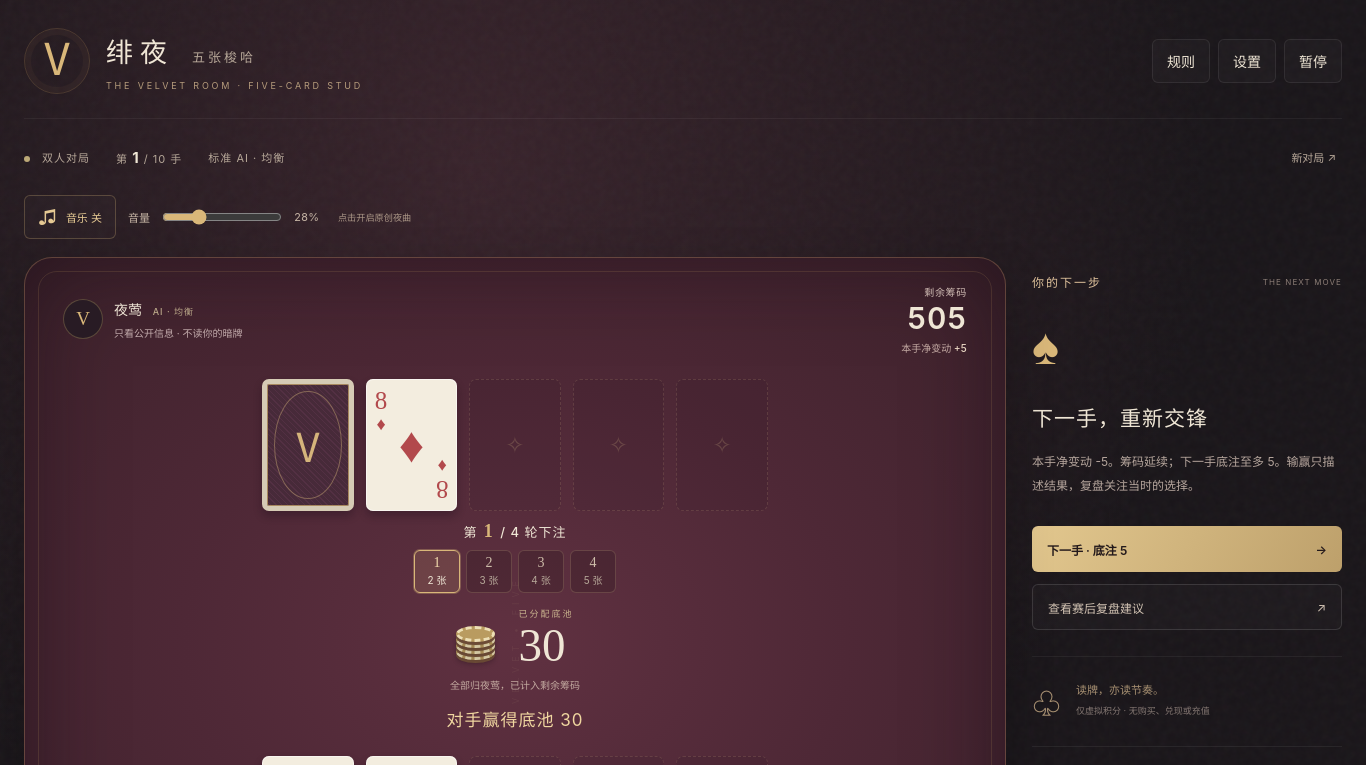
clear stakes and retrospective advice › shows player advice only after settlement and keeps folded AI hole-card analysis hidden
The image size is (1366, 765).
Click the button "查看赛后复盘建议 ↗" at coordinates (1108, 608), box [1032,584,1342,630]
(page scrolled)
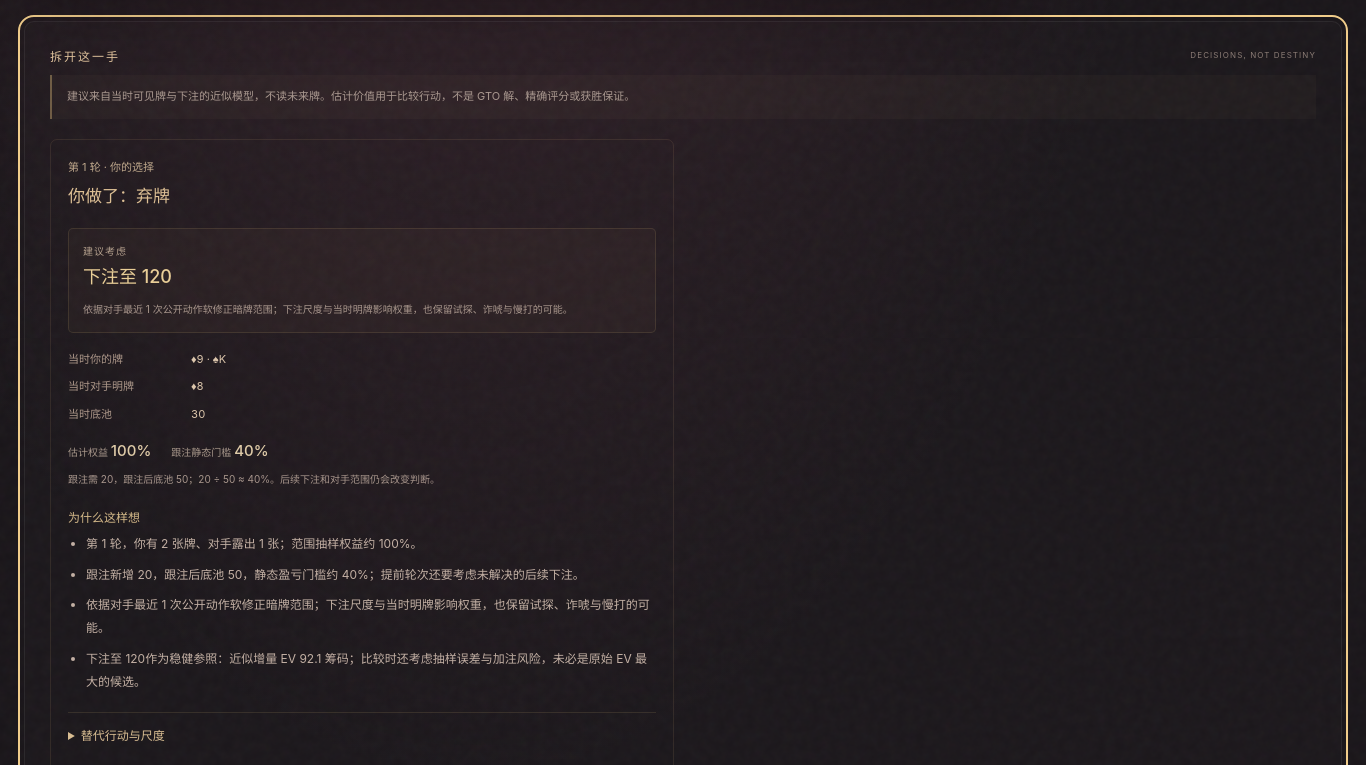
Expected: the text "建议考虑" is shown, [83,245,127,257]
Expected: the text "当时你的牌" is shown, [68,352,123,366]
Expected: the text "当时对手明牌" is shown, [68,379,134,393]
